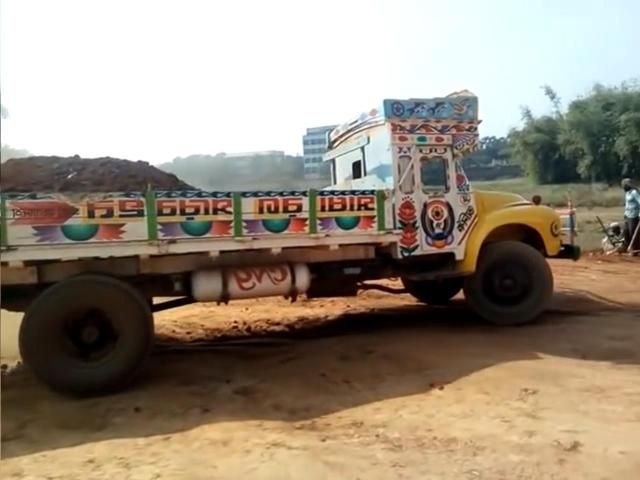truck: (0, 76, 574, 394)
